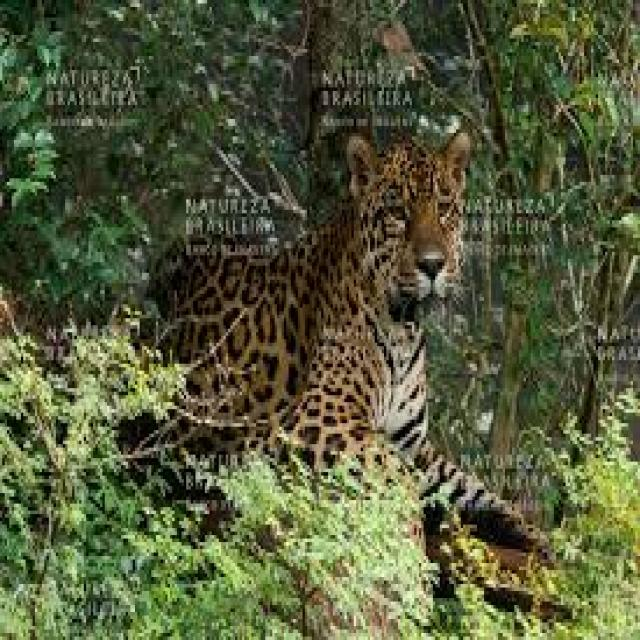Jaguar: (149, 129, 524, 542)
